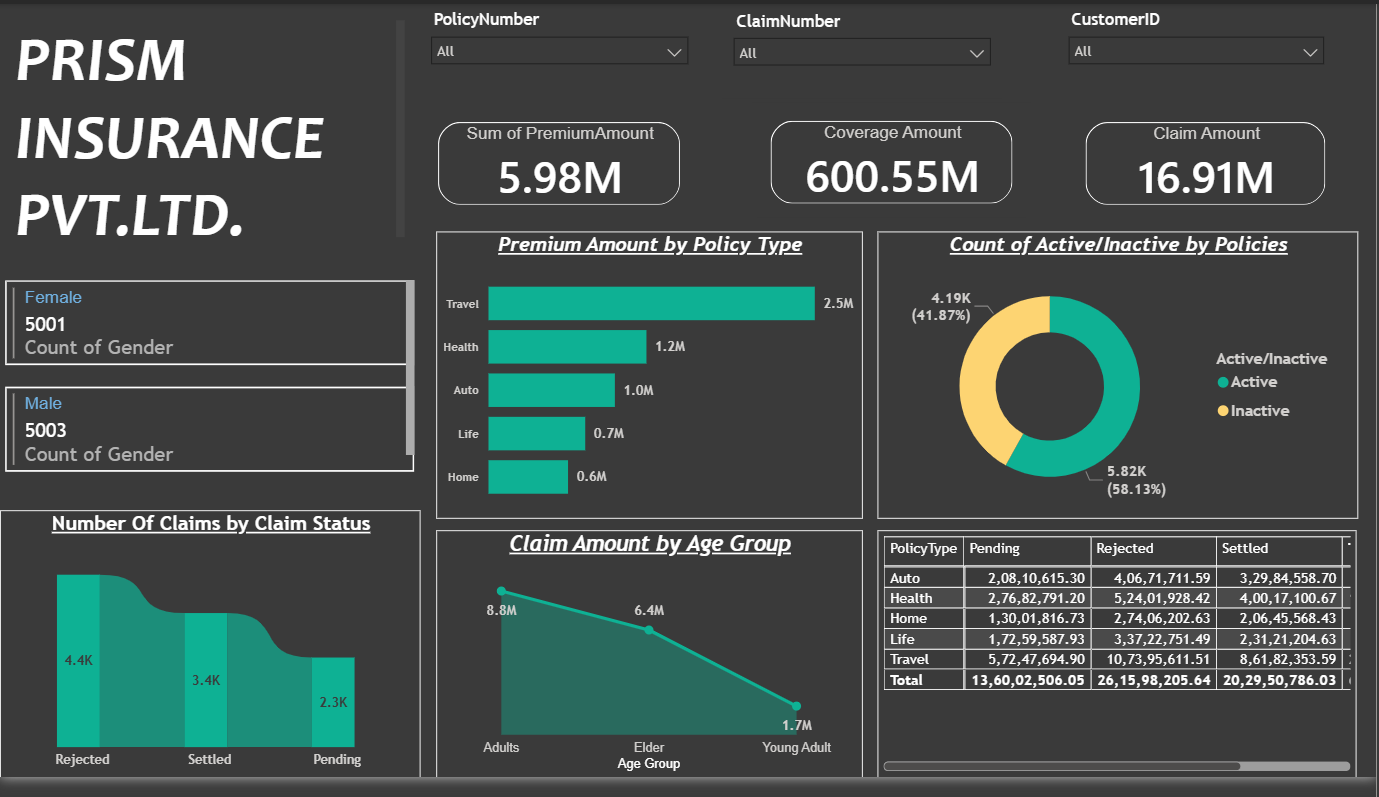

The page's visual inventory and layout, read from the dashboard file:
{"tool":"powerbi","page":{"name":"Page 1","canvas":[1280,720],"ordinal":0},"visuals":[{"type":"slicer","fields":{"Values":["InsuranceData.PolicyNumber"]},"box":[391.1,0,259.3,86.4],"z":0},{"type":"slicer","fields":{"Values":["InsuranceData.ClaimNumber"]},"box":[672.4,1.4,259.3,86.4],"z":1000},{"type":"slicer","fields":{"Values":["InsuranceData.CustomerID"]},"box":[983.9,0,258,86.4],"z":2000},{"type":"textbox","box":[8.8,10,372.5,218.8],"z":3000},{"type":"cardVisual","fields":{"Data":["Sum(InsuranceData.CoverageAmount)"]},"box":[699.8,91.9,259.3,111.1],"z":4000},{"type":"cardVisual","fields":{"Data":["Sum(InsuranceData.ClaimAmount)"]},"box":[992.7,93.3,258,111.1],"z":5000},{"type":"multiRowCard","fields":{"Values":["InsuranceData.Gender","CountNonNull(InsuranceData.Gender)"]},"box":[0,252.3,390.7,189.5],"z":6000},{"type":"cardVisual","fields":{"Data":["Sum(InsuranceData.PremiumAmount)"]},"box":[391.1,93.3,259.3,111.1],"z":7000},{"type":"ribbonChart","title":"Number Of Claims by Claim Status","fields":{"Category":["InsuranceData.ClaimStatus"],"Y":["CountNonNull(InsuranceData.ClaimStatus)"]},"box":[0,470.7,391.1,249.7],"z":8000},{"type":"barChart","title":"Premium Amount by Policy Type","fields":{"Category":["InsuranceData.PolicyType"],"Y":["Sum(InsuranceData.PremiumAmount)"]},"box":[406.2,211.3,396.6,267.6],"z":9000},{"type":"lineChart","title":"Claim Amount by Age Group","fields":{"Category":["InsuranceData.Age Group"],"Y":["Sum(InsuranceData.ClaimAmount)"]},"box":[405.8,489.5,396.5,230.2],"z":10000},{"type":"donutChart","title":"Count of Active/Inactive by Policies","fields":{"Category":["InsuranceData.Active/Inactive"],"Y":["CountNonNull(InsuranceData.Active/Inactive)"]},"box":[816.5,211.3,447.3,267.6],"z":11000},{"type":"pivotTable","fields":{"Values":["Sum(InsuranceData.CoverageAmount)"],"Rows":["InsuranceData.PolicyType"],"Columns":["InsuranceData.ClaimStatus"]},"box":[816.5,489.9,446,230.5],"z":12000}]}

Visuals, with their boxes in screenshot pixels (x1, y1, x2, y2), scaled from the page's 1280x720 canvas onto the 1379x797 screenshot:
slicer - InsuranceData.PolicyNumber: select_region(421, 0, 701, 96)
slicer - InsuranceData.ClaimNumber: select_region(724, 2, 1004, 97)
slicer - InsuranceData.CustomerID: select_region(1060, 0, 1338, 96)
textbox: select_region(9, 11, 411, 253)
cardVisual - Sum(InsuranceData.CoverageAmount): select_region(754, 102, 1033, 225)
cardVisual - Sum(InsuranceData.ClaimAmount): select_region(1069, 103, 1347, 226)
multiRowCard - InsuranceData.Gender x CountNonNull(InsuranceData.Gender): select_region(0, 279, 421, 489)
cardVisual - Sum(InsuranceData.PremiumAmount): select_region(421, 103, 701, 226)
"Number Of Claims by Claim Status" ribbonChart: select_region(0, 521, 421, 796)
"Premium Amount by Policy Type" barChart: select_region(438, 234, 865, 530)
"Claim Amount by Age Group" lineChart: select_region(437, 542, 864, 796)
"Count of Active/Inactive by Policies" donutChart: select_region(880, 234, 1362, 530)
pivotTable - Sum(InsuranceData.CoverageAmount) x InsuranceData.PolicyType: select_region(880, 542, 1360, 796)
